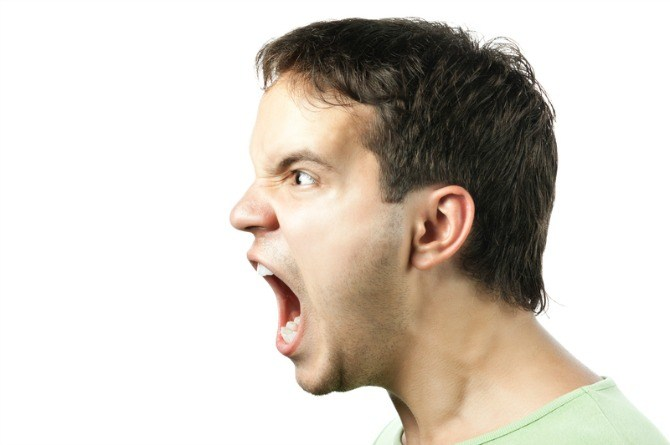angry: (219, 119, 360, 401)
